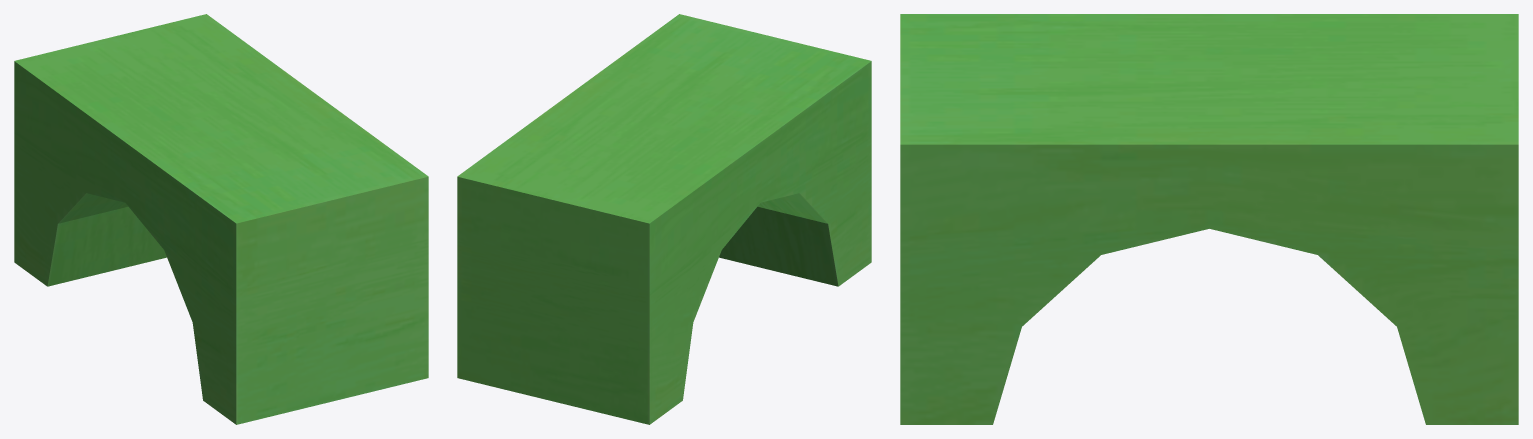
The model's file is BridgeBlock_Green.fbx.
3 renders of one model, left to right at view 1: azimuth 30°, elevation 25°; view 2: azimuth 150°, elevation 25°; view 3: azimuth 270°, elevation 25°, orthographic. The views are drawn at different scales.
Parts seen in each view (by area): view 1: Cube.037; view 2: Cube.037; view 3: Cube.037.
Boxes of the visible parts, bbox=[...] form: Cube.037: bbox=[14, 14, 428, 424]; Cube.037: bbox=[457, 14, 871, 424]; Cube.037: bbox=[900, 14, 1518, 424].
Size of the model in its own units: 100 by 100 by 200.
